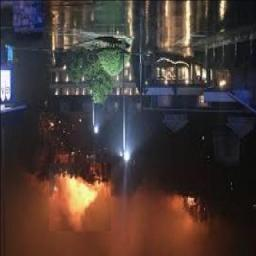Heavy smoke: (1, 140, 256, 256)
